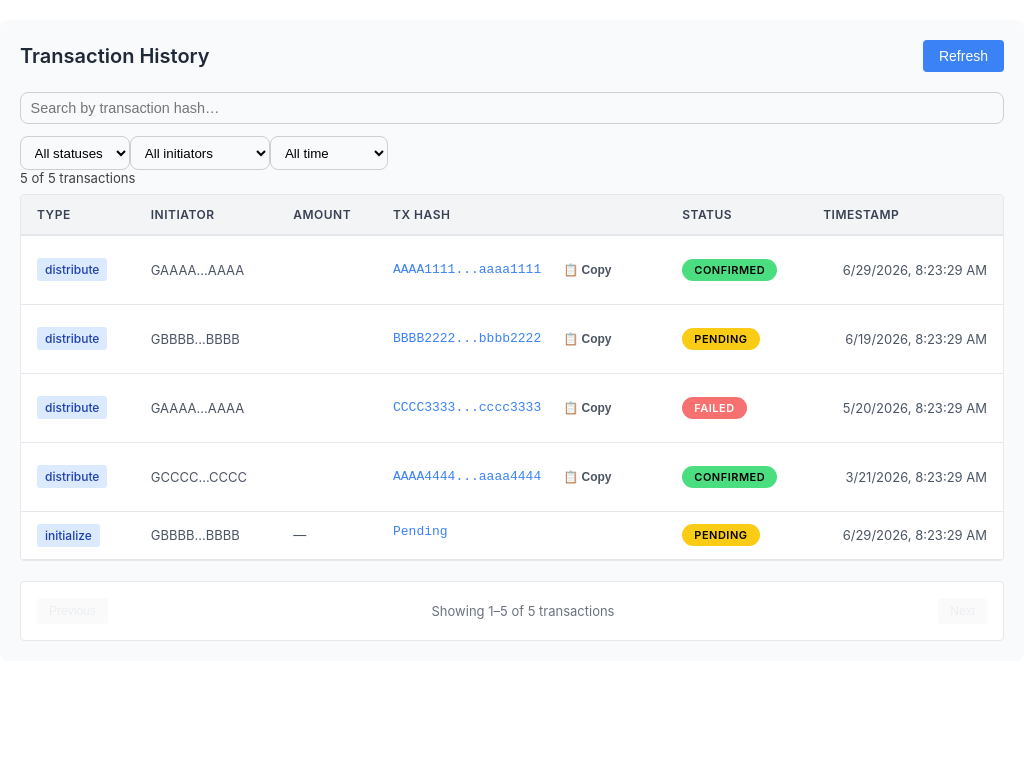
Test case: TransactionHistory filters (#413) › filters by date range (last 7 days)
Expected: the text "5 of 5 transactions" is shown, [20, 170, 135, 186]
Select "Last 7 days" in the dropdown named "Filter by date range" at {"x": 329, "y": 153}, box [270, 136, 388, 170]
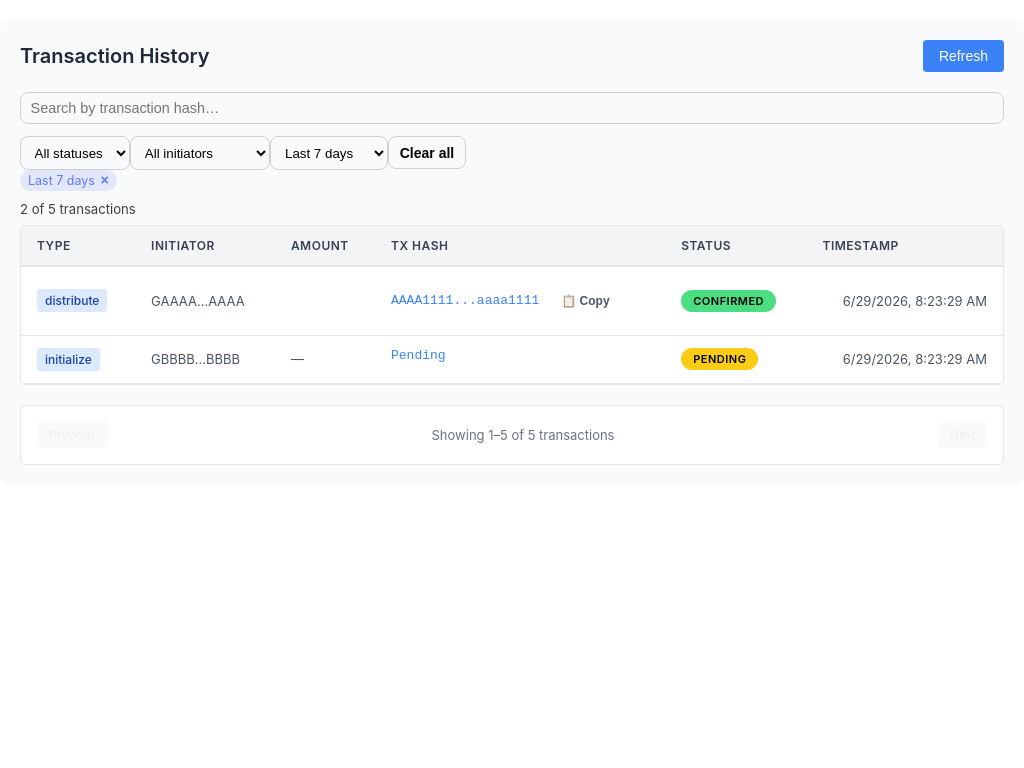
Result: the text with test id "tx-result-count" reads "2 of 5 transactions" at [20, 201, 136, 217]
